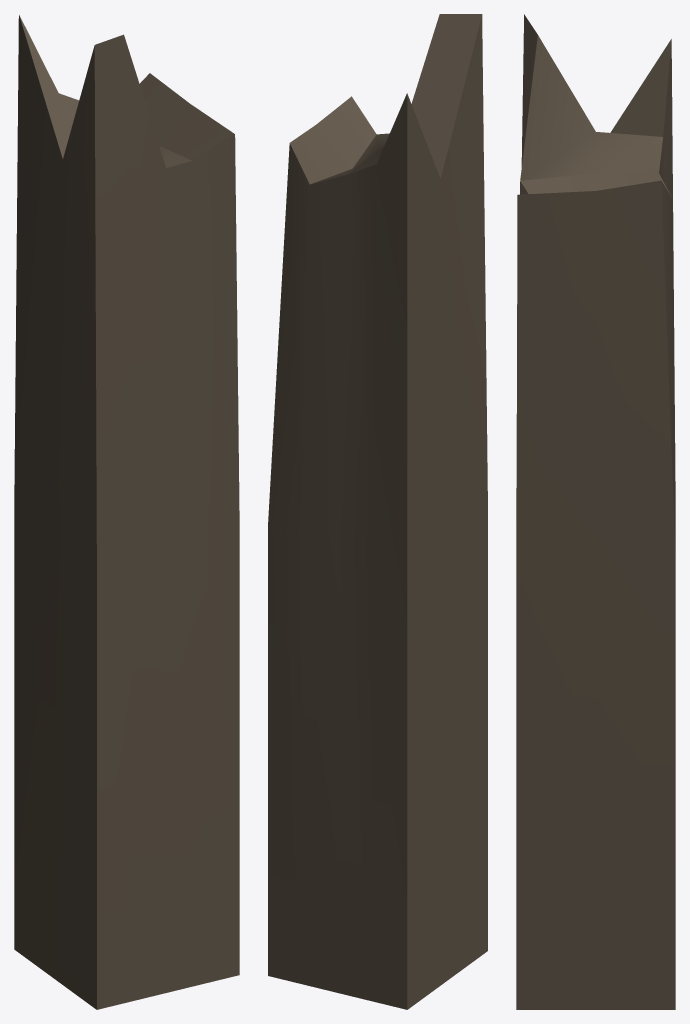
The model's file is gelaender_pfosten_kaputt.glb.
The picture shows the model from 3 angles, left to right: view 1: azimuth 30°, elevation 25°; view 2: azimuth 150°, elevation 25°; view 3: azimuth 270°, elevation 25°; orthographic projection. The views are drawn at different scales.
Parts seen in each view (by area): view 1: gelaender_pfosten_kaputt; view 2: gelaender_pfosten_kaputt; view 3: gelaender_pfosten_kaputt.
Boxes of the visible parts, <box> form: gelaender_pfosten_kaputt: <box>14,15,239,1009</box>; gelaender_pfosten_kaputt: <box>268,14,487,1009</box>; gelaender_pfosten_kaputt: <box>516,14,675,1009</box>.
Bounding box in the file's own units: 0.1 × 0.6441 × 0.1.
